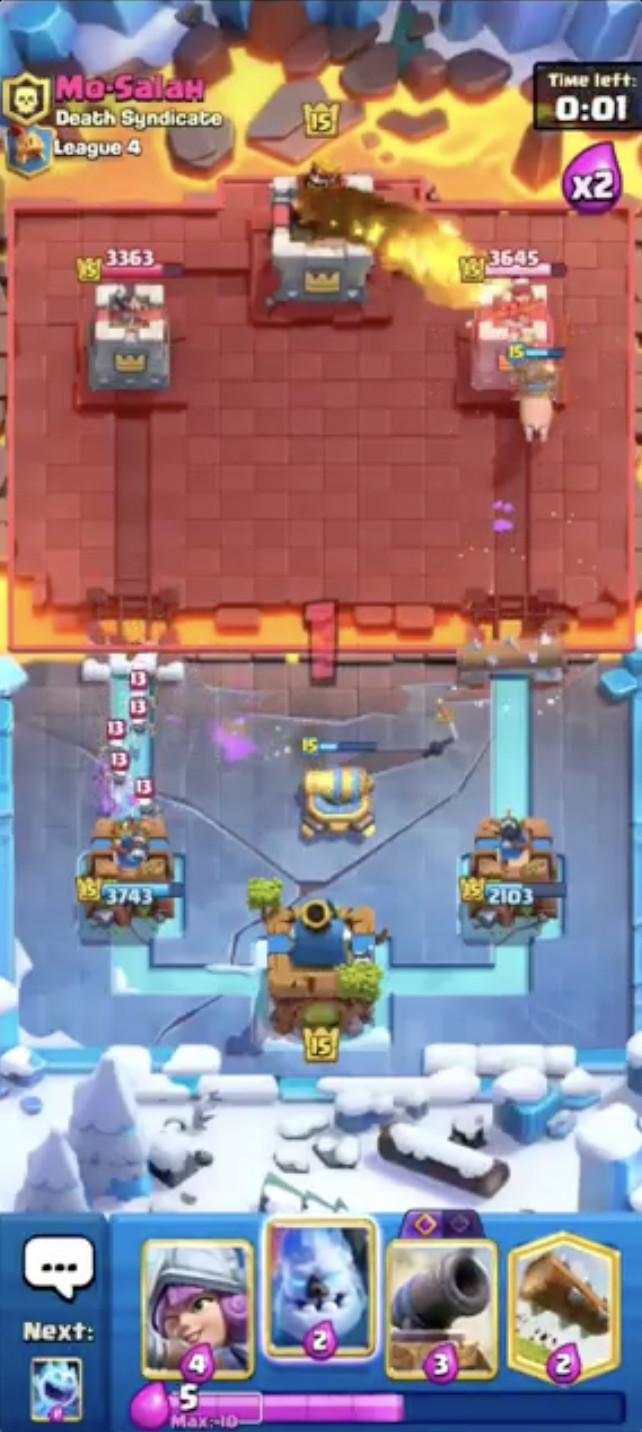fireball: (404, 208, 496, 307)
skeleton: (119, 669, 160, 737), (130, 774, 168, 821), (106, 750, 142, 795), (101, 724, 130, 756)
